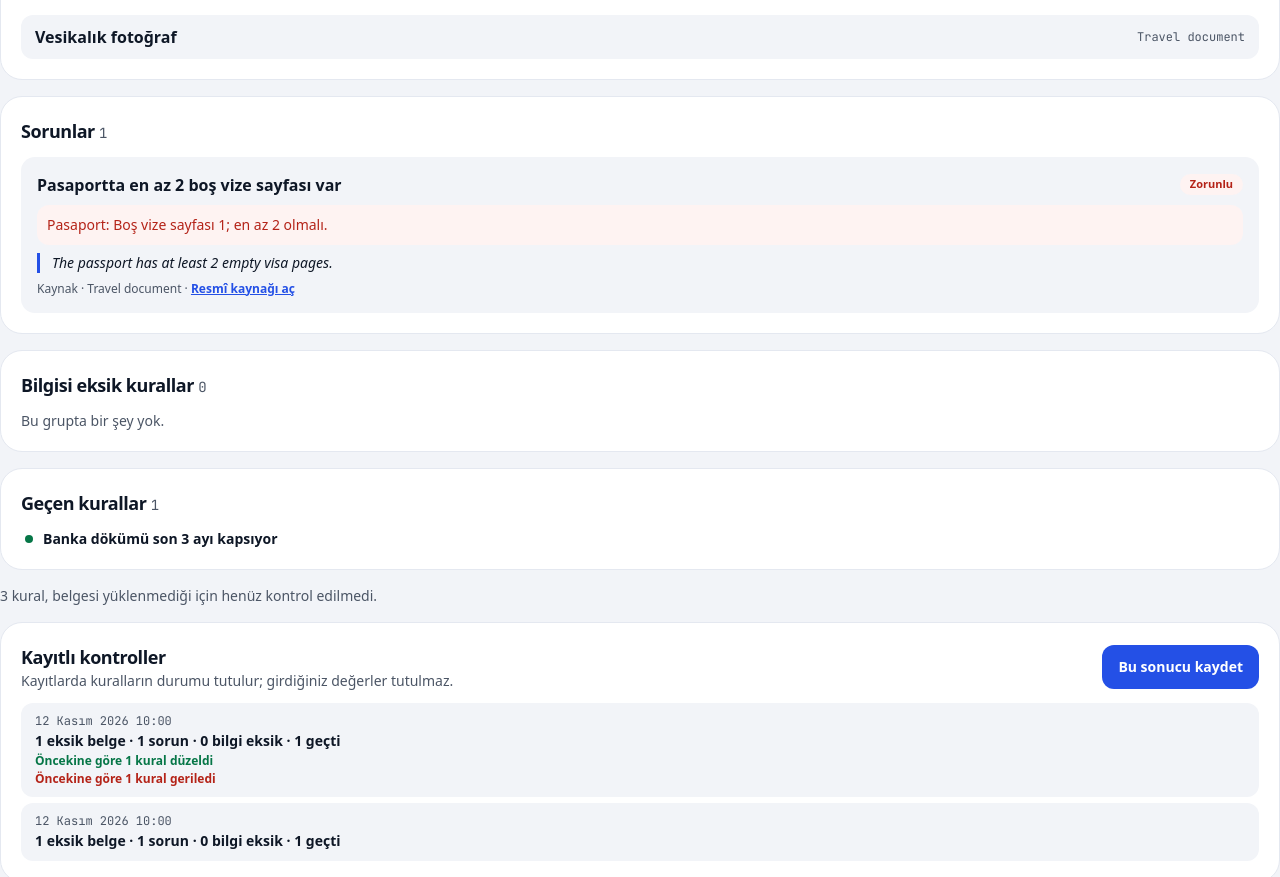
findings page › lists kept checks with the change since the one before, and keeps a new one
(page scrolled)
Expected: the text "Öncekine göre 1 kural düzeldi" is shown, [35, 752, 213, 768]
Expected: the text "Öncekine göre 1 kural geriledi" is shown, [35, 770, 216, 786]
Click the button "Bu sonucu kaydet".
click(1181, 666)  # box [1102, 644, 1259, 688]
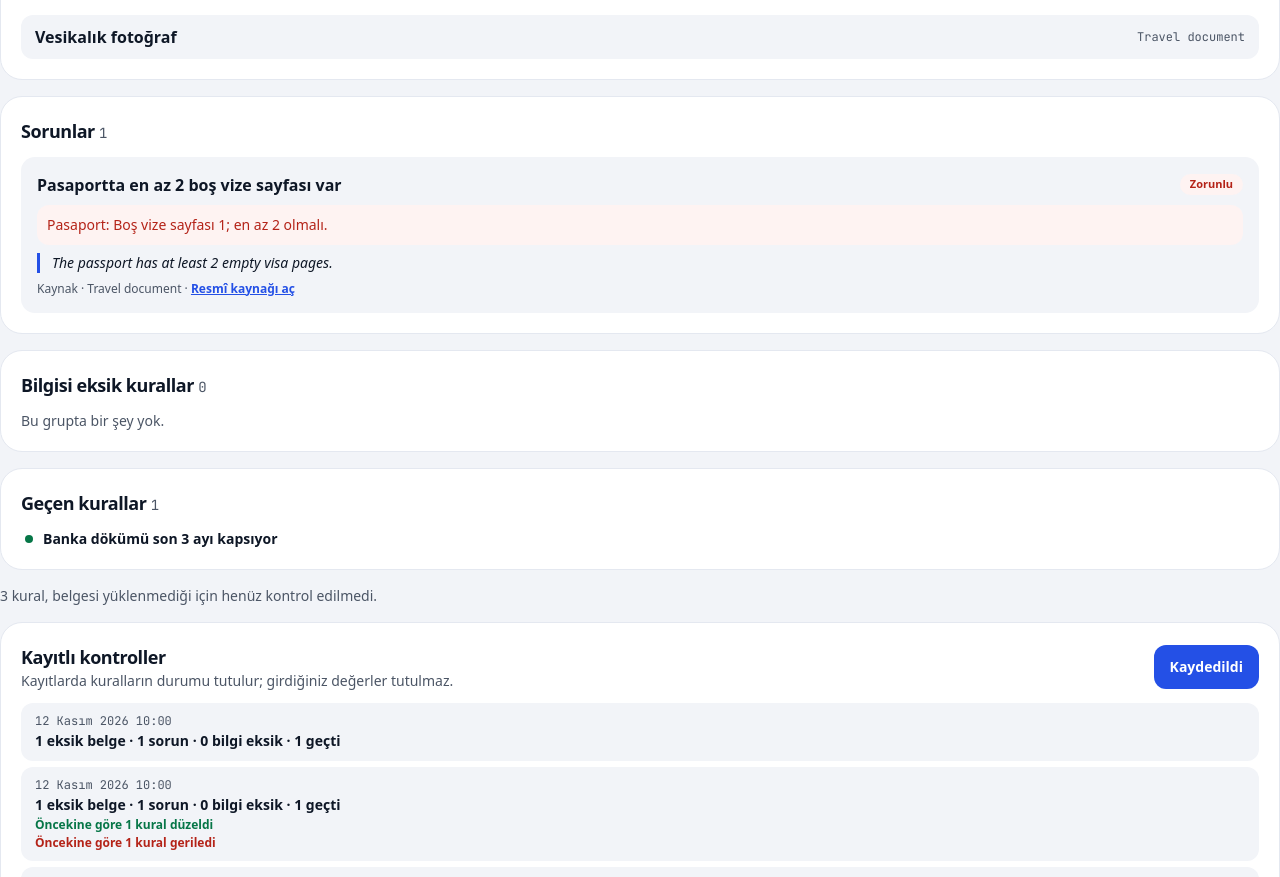
Result: the button "Kaydedildi" is shown at [1154, 644, 1259, 688]
